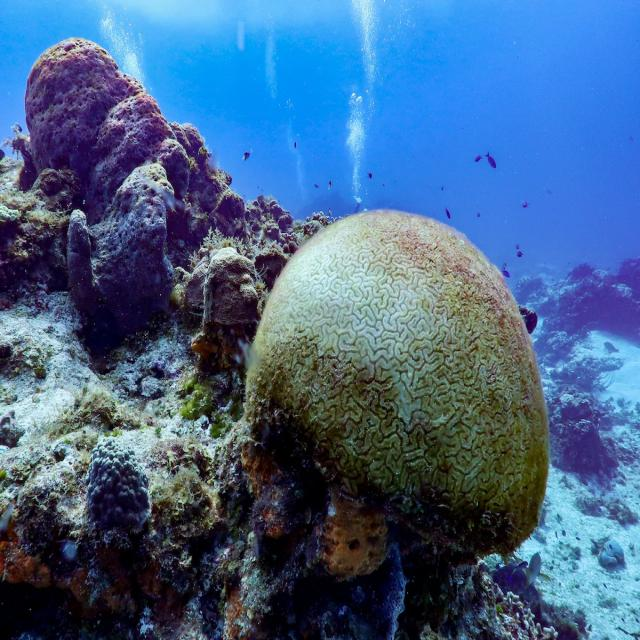Coral: (243, 208, 551, 564)
